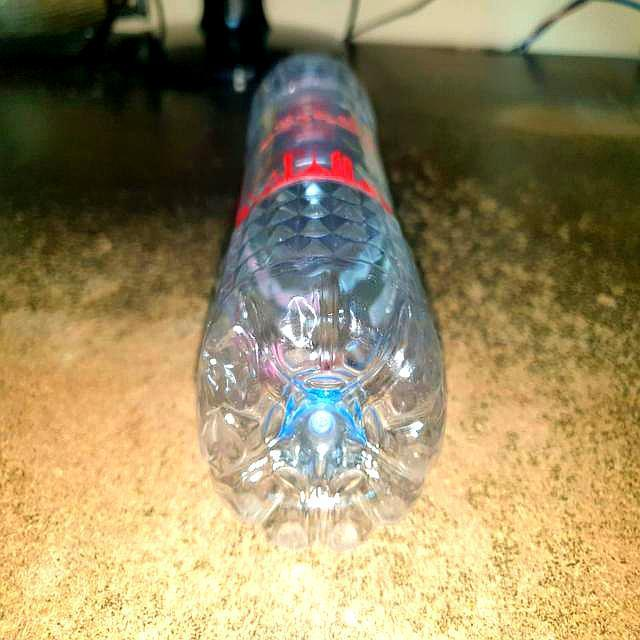Non-biodegradable: (193, 52, 450, 553)
